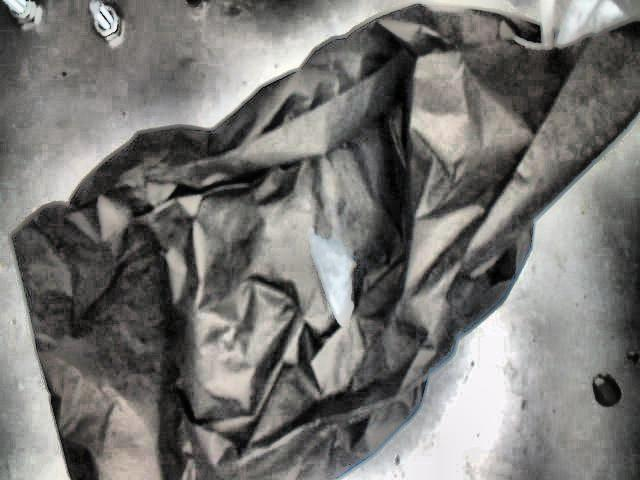Paper: (9, 3, 640, 480)
